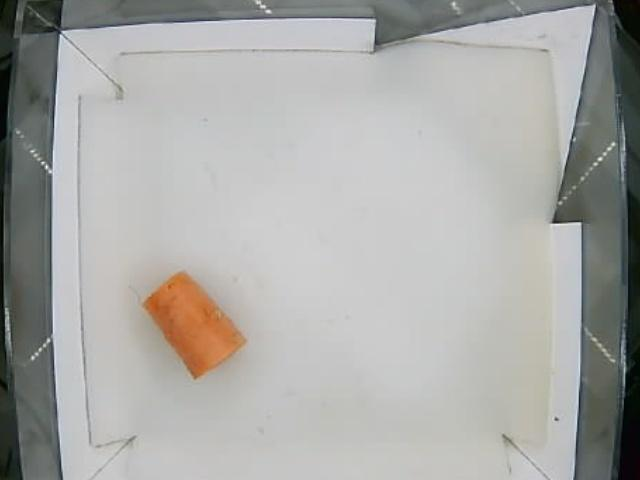Carrot: (143, 269, 249, 381)
